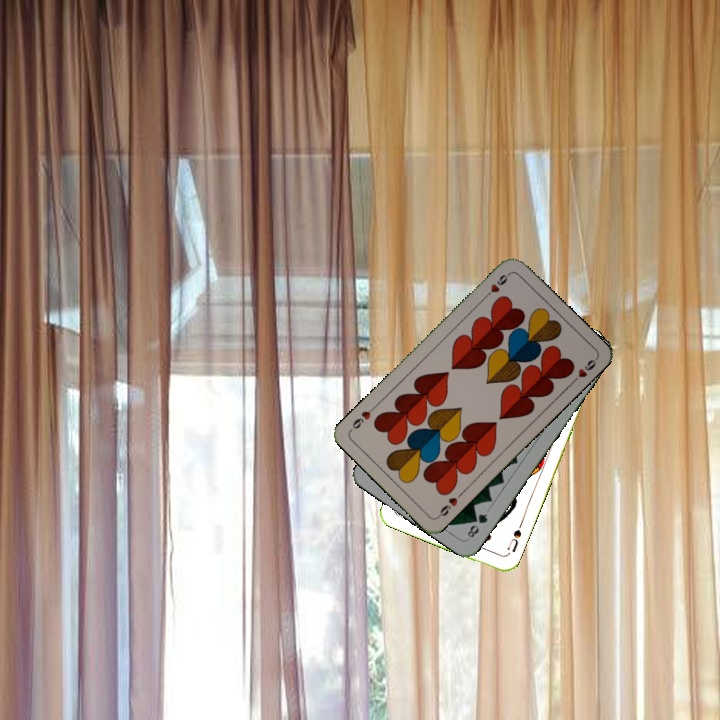G8: (463, 509, 490, 540)
H9: (433, 488, 465, 521), (480, 269, 513, 301)
SU: (504, 525, 524, 555)
